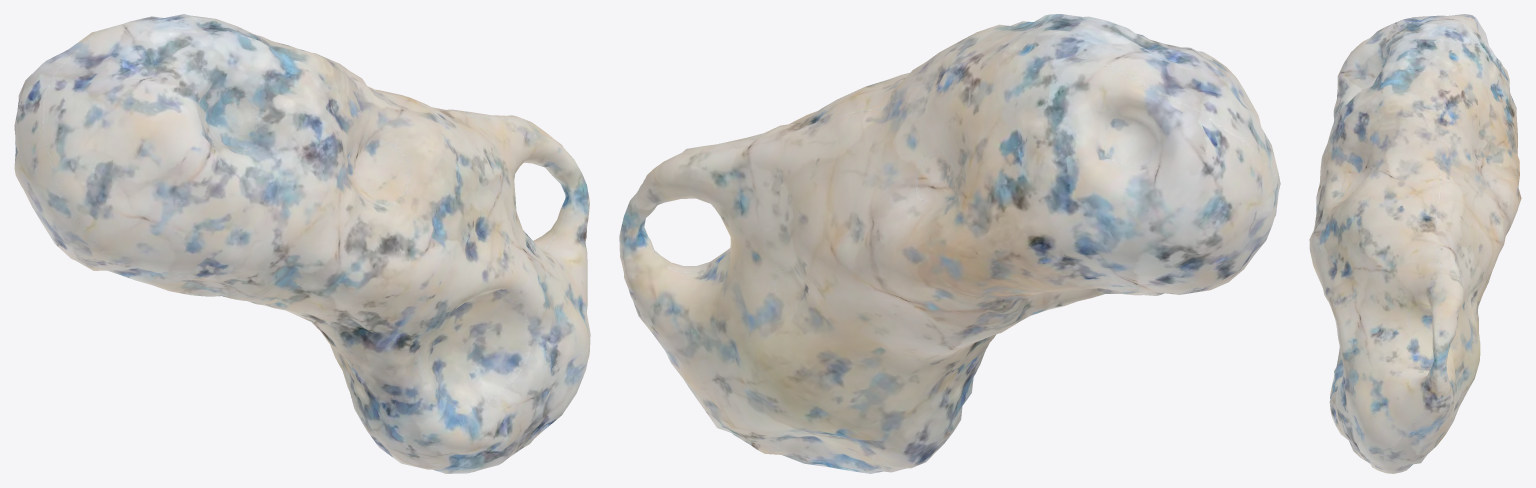
The model's file is asteroidOptimized-transformed.glb.
3 views of the same model, side by side, from view 1: azimuth 30°, elevation 25°; view 2: azimuth 150°, elevation 25°; view 3: azimuth 270°, elevation 25° (orthographic). The views are drawn at different scales.
Visible parts, largest first — view 1: Object_2; view 2: Object_2; view 3: Object_2.
Boxes of the visible parts, bbox=[...] form: Object_2: bbox=[14, 14, 590, 473]; Object_2: bbox=[619, 14, 1280, 473]; Object_2: bbox=[1309, 14, 1521, 473].
Bounding box in the file's own units: 2.48 × 2 × 1.13.
Materials: 1 (1 with a texture image).
